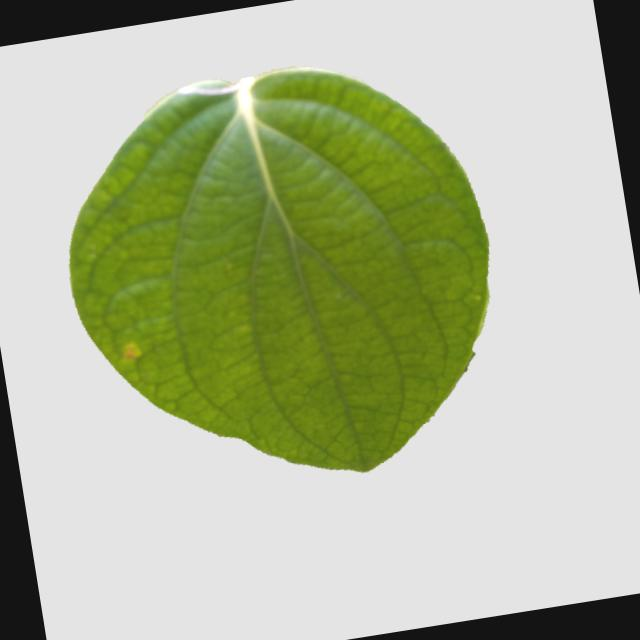healthy: (33, 42, 530, 521)
